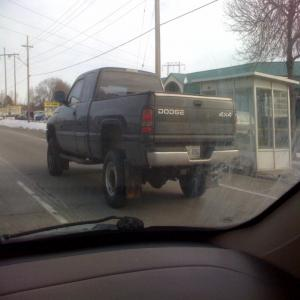Vehicle-registration-plate: (187, 146, 201, 159)
